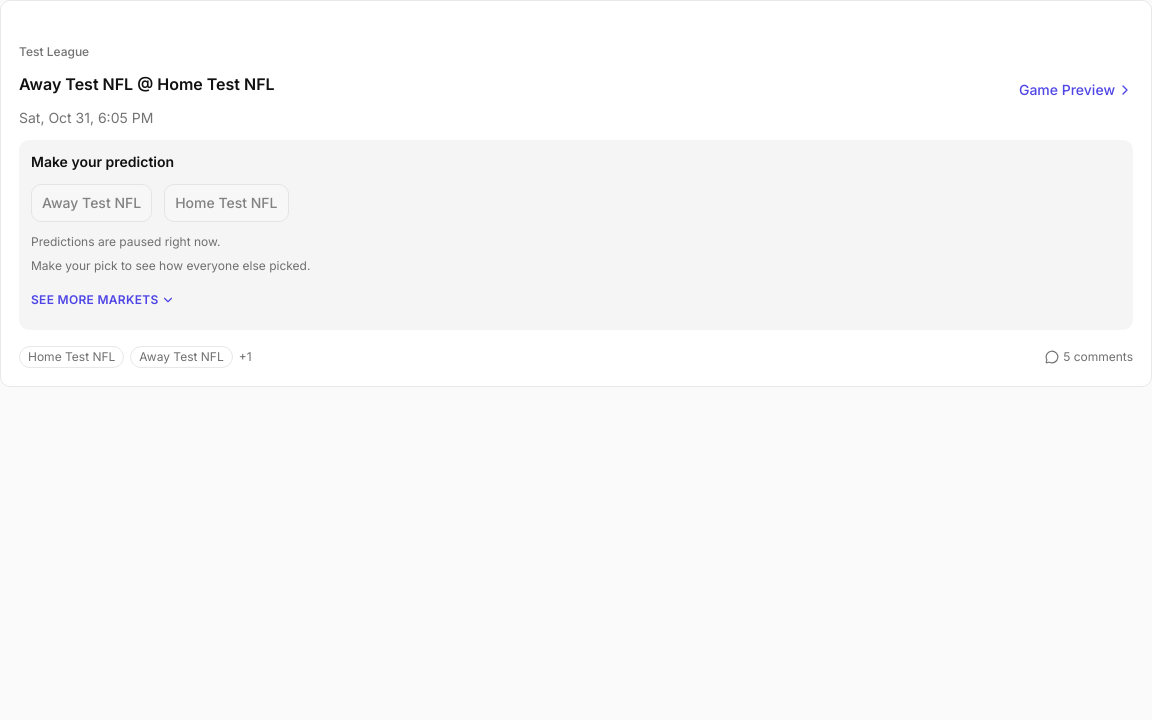
Test: GamePostCard › inline multi-market expansion (a signed-in viewer's feed) › collapses again without touching anything: the Markets stay mounted, only hidden
Click the button with aria-label "markets for": (103, 300) 27,282 -> 179,318
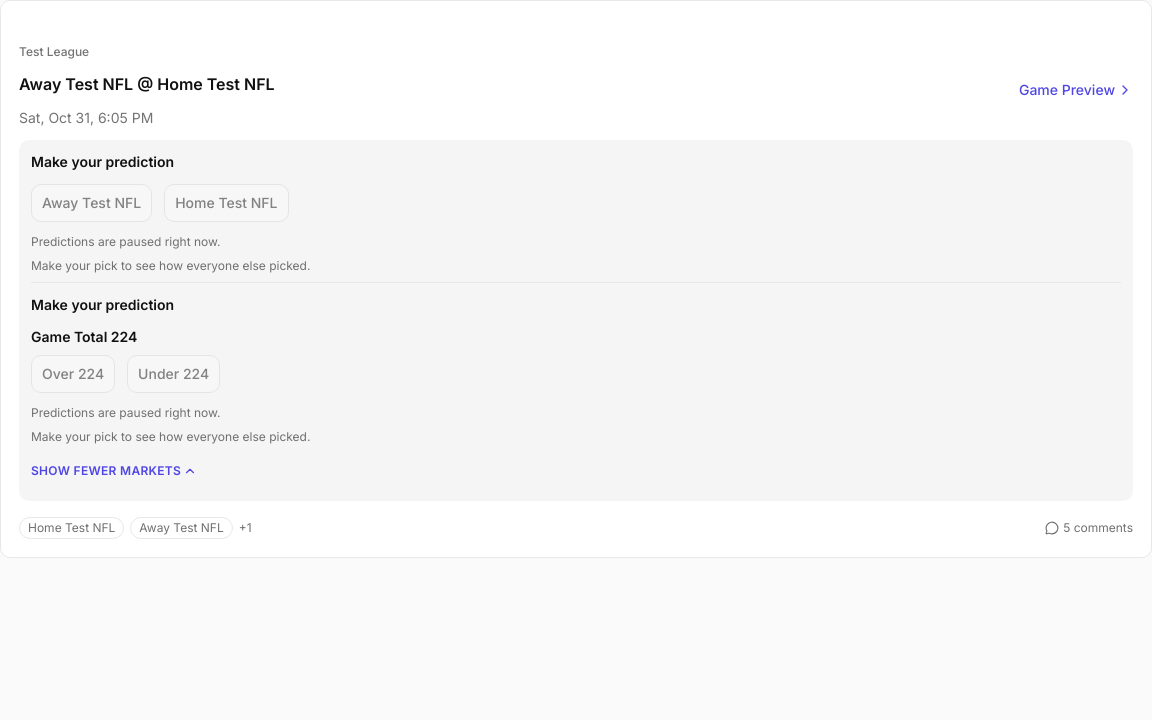
Click the button with aria-label "markets for": (114, 471) 27,453 -> 201,489
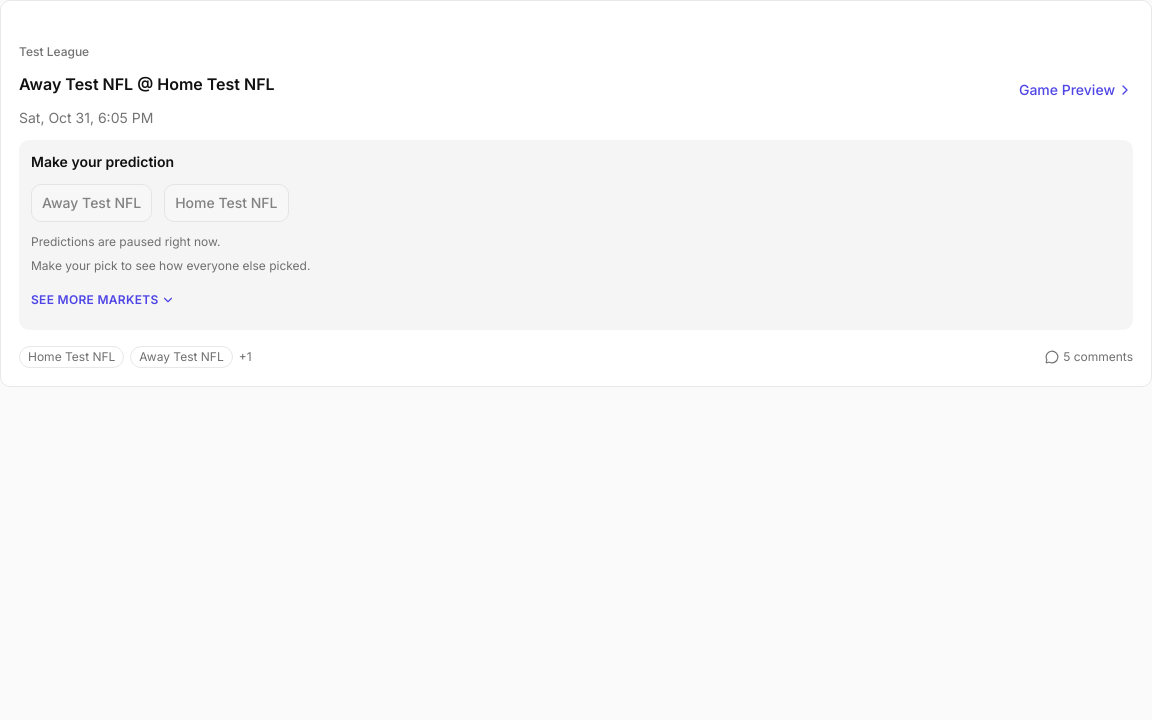
Check: the button with aria-label "markets for" is collapsed, box 27,282 -> 179,318
